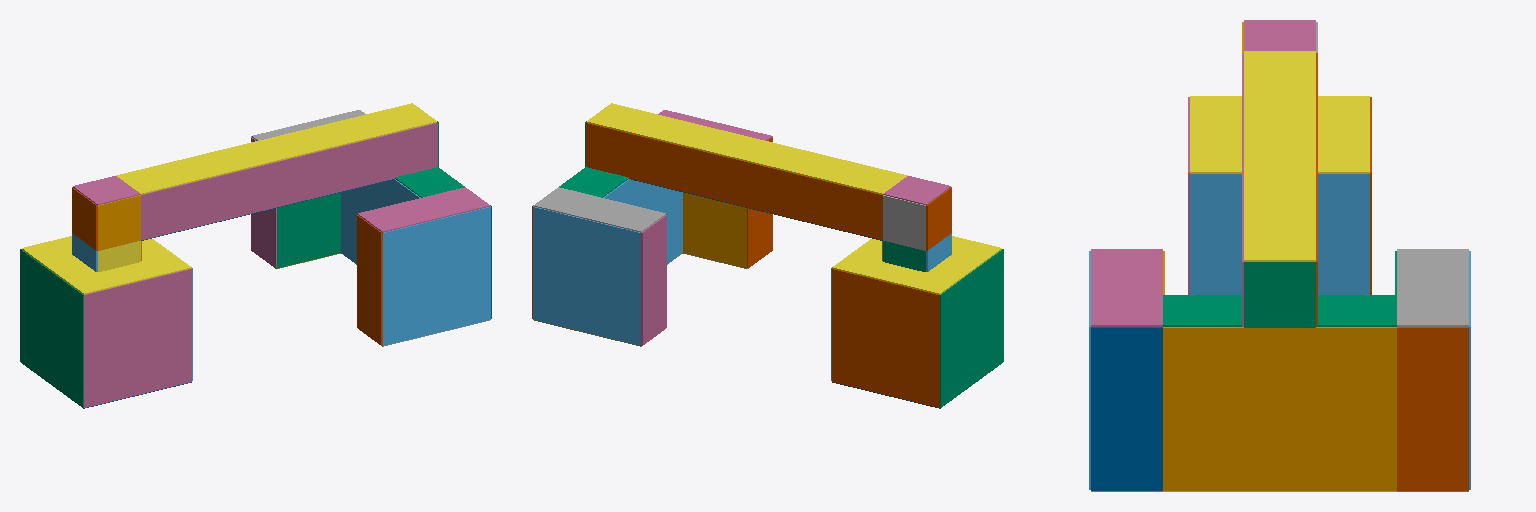
--- Facts derived from the render (not from the file) ---
The picture shows the robot from 3 angles, left to right: view 1: azimuth 30°, elevation 25°; view 2: azimuth 150°, elevation 25°; view 3: azimuth 270°, elevation 25°; orthographic projection.
Model robot with 64 links and 63 joints (2 continuous, 61 fixed), rooted at body, posed all joints at 0.
Links seen in each view (by area): view 1: arm_sensor_0_right, body_sensor_0_right, hand_3_sensor_0_right, arm_sensor_0_top, body_sensor_0_stop, body_sensor_0_top, hand_2_sensor_0_right, hand_3_sensor_0_stop, hand_3_sensor_0_top, hand_1_sensor_0_stop, joint_2_sensor_0_right, hand_2_sensor_0_stop (+6 smaller); view 2: arm_sensor_0_left, body_sensor_0_left, hand_2_sensor_0_left, arm_sensor_0_top, body_sensor_0_stop, body_sensor_0_top, hand_3_sensor_0_left, hand_2_sensor_0_stop, hand_2_sensor_0_top, hand_1_sensor_0_stop, joint_2_sensor_0_left, hand_3_sensor_0_stop (+6 smaller); view 3: hand_1_sensor_0_start, arm_sensor_0_top, body_sensor_0_start, hand_2_sensor_0_start, hand_3_sensor_0_start, body_sensor_0_top, hand_2_sensor_0_top, hand_3_sensor_0_top, hand_1_sensor_0_top, arm_sensor_0_start, joint_2_sensor_0_top, arm_sensor_0_right (+1 smaller).
Boxes of the visible links, x1=… form: arm_sensor_0_right: x1=141, y1=123, x2=437, y2=240; body_sensor_0_right: x1=84, y1=269, x2=191, y2=407; hand_3_sensor_0_right: x1=383, y1=206, x2=490, y2=345; arm_sensor_0_top: x1=116, y1=103, x2=436, y2=194; body_sensor_0_stop: x1=20, y1=249, x2=83, y2=407; body_sensor_0_top: x1=22, y1=236, x2=191, y2=294; hand_2_sensor_0_right: x1=277, y1=192, x2=340, y2=268; hand_3_sensor_0_stop: x1=357, y1=215, x2=382, y2=345; hand_3_sensor_0_top: x1=358, y1=187, x2=489, y2=232; hand_1_sensor_0_stop: x1=341, y1=179, x2=420, y2=264; joint_2_sensor_0_right: x1=98, y1=195, x2=140, y2=250; hand_2_sensor_0_stop: x1=251, y1=137, x2=276, y2=267; arm_sensor_0_left: x1=586, y1=123, x2=882, y2=240; body_sensor_0_left: x1=832, y1=269, x2=939, y2=407; hand_2_sensor_0_left: x1=533, y1=206, x2=640, y2=345; arm_sensor_0_top: x1=587, y1=103, x2=907, y2=194; body_sensor_0_stop: x1=940, y1=249, x2=1003, y2=407; body_sensor_0_top: x1=832, y1=236, x2=1001, y2=294; hand_3_sensor_0_left: x1=683, y1=192, x2=746, y2=268; hand_2_sensor_0_stop: x1=641, y1=215, x2=666, y2=345; hand_2_sensor_0_top: x1=534, y1=187, x2=665, y2=232; hand_1_sensor_0_stop: x1=603, y1=179, x2=682, y2=264; joint_2_sensor_0_left: x1=883, y1=195, x2=925, y2=250; hand_3_sensor_0_stop: x1=747, y1=137, x2=772, y2=267; hand_1_sensor_0_start: x1=1163, y1=327, x2=1396, y2=490; arm_sensor_0_top: x1=1244, y1=51, x2=1315, y2=261; body_sensor_0_start: x1=1190, y1=173, x2=1369, y2=294; hand_2_sensor_0_start: x1=1397, y1=327, x2=1468, y2=490; hand_3_sensor_0_start: x1=1091, y1=327, x2=1162, y2=490; body_sensor_0_top: x1=1190, y1=96, x2=1369, y2=172; hand_2_sensor_0_top: x1=1397, y1=249, x2=1468, y2=326; hand_3_sensor_0_top: x1=1091, y1=249, x2=1162, y2=326; hand_1_sensor_0_top: x1=1163, y1=295, x2=1396, y2=326; arm_sensor_0_start: x1=1244, y1=262, x2=1315, y2=327; joint_2_sensor_0_top: x1=1244, y1=20, x2=1315, y2=50; arm_sensor_0_right: x1=1242, y1=53, x2=1243, y2=326.
Bounding box of the posed robot: 3.47 × 2.12 × 1.62 m (x, y, z).
Geometry: primitives only (box / cylinder / sphere), no mesh files.

The robot description file, URDF, robot "robot":
<?xml version="1.0"?>
    <robot name="robot">


    <!-- body -->
    <link name="body">
        <inertial>
            <origin xyz="0 0 0" rpy="0 0 0"/>
            <mass value="100"/>
            <inertia ixx=".1" ixy=".1" ixz=".1" iyy=".1" iyz=".1" izz=".1"/>
        </inertial>
        <visual>
            <origin xyz="0 0 0" rpy="0 0 0"/>
            <geometry>
                <box size="1 1 1"/>
            </geometry>
        </visual>
        <collision>
            <origin xyz="0 0 0" rpy="0 0 0"/>
            <geometry>
                <box size="1 1 1"/>
            </geometry>
        </collision>
    </link>


    <!-- body_sensor_0_start -->
    <link name="body_sensor_0_start">
        <inertial>
            <origin xyz="0 0 0" rpy="0 0 0"/>
            <mass value="0"/>
            <inertia ixx=".1" ixy=".1" ixz=".1" iyy=".1" iyz=".1" izz=".1"/>
        </inertial>
        <visual>
            <origin xyz="0 0 0" rpy="0 0 0"/>
            <geometry>
                <box size="0.02 1 1"/>
            </geometry>
        </visual>
        <collision>
            <origin xyz="0 0 0" rpy="0 0 0"/>
            <geometry>
                <box size="0.02 1 1"/>
            </geometry>
        </collision>
    </link>
    <!-- Joint: body, body_sensor_0_start -->
    <joint name="body_body_sensor_0_start_joint" type="fixed">
        <parent link="body"/>
        <child link="body_sensor_0_start"/>
        <origin xyz="0.5 0 0"
                rpy="0 0 0"/>
        <axis xyz="0 0 1"/>
        
    </joint>


    <!-- body_sensor_0_stop -->
    <link name="body_sensor_0_stop">
        <inertial>
            <origin xyz="0 0 0" rpy="0 0 0"/>
            <mass value="0"/>
            <inertia ixx=".1" ixy=".1" ixz=".1" iyy=".1" iyz=".1" izz=".1"/>
        </inertial>
        <visual>
            <origin xyz="0 0 0" rpy="0 0 0"/>
            <geometry>
                <box size="0.02 1 1"/>
            </geometry>
        </visual>
        <collision>
            <origin xyz="0 0 0" rpy="0 0 0"/>
            <geometry>
                <box size="0.02 1 1"/>
            </geometry>
        </collision>
    </link>
    <!-- Joint: body, body_sensor_0_stop -->
    <joint name="body_body_sensor_0_stop_joint" type="fixed">
        <parent link="body"/>
        <child link="body_sensor_0_stop"/>
        <origin xyz="-0.5 0 0"
                rpy="0 0 0"/>
        <axis xyz="0 0 1"/>
        
    </joint>


    <!-- body_sensor_0_top -->
    <link name="body_sensor_0_top">
        <inertial>
            <origin xyz="0 0 0" rpy="0 0 0"/>
            <mass value="0"/>
            <inertia ixx=".1" ixy=".1" ixz=".1" iyy=".1" iyz=".1" izz=".1"/>
        </inertial>
        <visual>
            <origin xyz="0 0 0" rpy="0 0 0"/>
            <geometry>
                <box size="1.0 1 0.02"/>
            </geometry>
        </visual>
        <collision>
            <origin xyz="0 0 0" rpy="0 0 0"/>
            <geometry>
                <box size="1.0 1 0.02"/>
            </geometry>
        </collision>
    </link>
    <!-- Joint: body, body_sensor_0_top -->
    <joint name="body_body_sensor_0_top_joint" type="fixed">
        <parent link="body"/>
        <child link="body_sensor_0_top"/>
        <origin xyz="0 0 0.5"
                rpy="0 0 0"/>
        <axis xyz="0 0 1"/>
        
    </joint>


    <!-- body_sensor_0_bottom -->
    <link name="body_sensor_0_bottom">
        <inertial>
            <origin xyz="0 0 0" rpy="0 0 0"/>
            <mass value="0"/>
            <inertia ixx=".1" ixy=".1" ixz=".1" iyy=".1" iyz=".1" izz=".1"/>
        </inertial>
        <visual>
            <origin xyz="0 0 0" rpy="0 0 0"/>
            <geometry>
                <box size="1.0 1 0.02"/>
            </geometry>
        </visual>
        <collision>
            <origin xyz="0 0 0" rpy="0 0 0"/>
            <geometry>
                <box size="1.0 1 0.02"/>
            </geometry>
        </collision>
    </link>
    <!-- Joint: body, body_sensor_0_bottom -->
    <joint name="body_body_sensor_0_bottom_joint" type="fixed">
        <parent link="body"/>
        <child link="body_sensor_0_bottom"/>
        <origin xyz="0 0 -0.5"
                rpy="0 0 0"/>
        <axis xyz="0 0 1"/>
        
    </joint>


    <!-- body_sensor_0_left -->
    <link name="body_sensor_0_left">
        <inertial>
            <origin xyz="0 0 0" rpy="0 0 0"/>
            <mass value="0"/>
            <inertia ixx=".1" ixy=".1" ixz=".1" iyy=".1" iyz=".1" izz=".1"/>
        </inertial>
        <visual>
            <origin xyz="0 0 0" rpy="0 0 0"/>
            <geometry>
                <box size="1.0 0.02 1"/>
            </geometry>
        </visual>
        <collision>
            <origin xyz="0 0 0" rpy="0 0 0"/>
            <geometry>
                <box size="1.0 0.02 1"/>
            </geometry>
        </collision>
    </link>
    <!-- Joint: body, body_sensor_0_left -->
    <joint name="body_body_sensor_0_left_joint" type="fixed">
        <parent link="body"/>
        <child link="body_sensor_0_left"/>
        <origin xyz="0 0.5 0"
                rpy="0 0 0"/>
        <axis xyz="0 0 1"/>
        
    </joint>


    <!-- body_sensor_0_right -->
    <link name="body_sensor_0_right">
        <inertial>
            <origin xyz="0 0 0" rpy="0 0 0"/>
            <mass value="0"/>
            <inertia ixx=".1" ixy=".1" ixz=".1" iyy=".1" iyz=".1" izz=".1"/>
        </inertial>
        <visual>
            <origin xyz="0 0 0" rpy="0 0 0"/>
            <geometry>
                <box size="1.0 0.02 1"/>
            </geometry>
        </visual>
        <collision>
            <origin xyz="0 0 0" rpy="0 0 0"/>
            <geometry>
                <box size="1.0 0.02 1"/>
            </geometry>
        </collision>
    </link>
    <!-- Joint: body, body_sensor_0_right -->
    <joint name="body_body_sensor_0_right_joint" type="fixed">
        <parent link="body"/>
        <child link="body_sensor_0_right"/>
        <origin xyz="0 -0.5 0"
                rpy="0 0 0"/>
        <axis xyz="0 0 1"/>
        
    </joint>


    <!-- joint_1 -->
    <link name="joint_1">
        <inertial>
            <origin xyz="0 0 0" rpy="0 0 0"/>
            <mass value="2"/>
            <inertia ixx=".1" ixy=".1" ixz=".1" iyy=".1" iyz=".1" izz=".1"/>
        </inertial>
        <visual>
            <origin xyz="0 0 0" rpy="0 0 0"/>
            <geometry>
                <box size="0.4 0.4 0.2"/>
            </geometry>
        </visual>
        <collision>
            <origin xyz="0 0 0" rpy="0 0 0"/>
            <geometry>
                <box size="0.4 0.4 0.2"/>
            </geometry>
        </collision>
    </link>


    <!-- joint_1_sensor_0_start -->
    <link name="joint_1_sensor_0_start">
        <inertial>
            <origin xyz="0 0 0" rpy="0 0 0"/>
            <mass value="0"/>
            <inertia ixx=".1" ixy=".1" ixz=".1" iyy=".1" iyz=".1" izz=".1"/>
        </inertial>
        <visual>
            <origin xyz="0 0 0" rpy="0 0 0"/>
            <geometry>
                <box size="0.02 0.4 0.2"/>
            </geometry>
        </visual>
        <collision>
            <origin xyz="0 0 0" rpy="0 0 0"/>
            <geometry>
                <box size="0.02 0.4 0.2"/>
            </geometry>
        </collision>
    </link>
    <!-- Joint: joint_1, joint_1_sensor_0_start -->
    <joint name="joint_1_joint_1_sensor_0_start_joint" type="fixed">
        <parent link="joint_1"/>
        <child link="joint_1_sensor_0_start"/>
        <origin xyz="0.2 0 0"
                rpy="0 0 0"/>
        <axis xyz="0 0 1"/>
        
    </joint>


    <!-- joint_1_sensor_0_stop -->
    <link name="joint_1_sensor_0_stop">
        <inertial>
            <origin xyz="0 0 0" rpy="0 0 0"/>
            <mass value="0"/>
            <inertia ixx=".1" ixy=".1" ixz=".1" iyy=".1" iyz=".1" izz=".1"/>
        </inertial>
        <visual>
            <origin xyz="0 0 0" rpy="0 0 0"/>
            <geometry>
                <box size="0.02 0.4 0.2"/>
            </geometry>
        </visual>
        <collision>
            <origin xyz="0 0 0" rpy="0 0 0"/>
            <geometry>
                <box size="0.02 0.4 0.2"/>
            </geometry>
        </collision>
    </link>
    <!-- Joint: joint_1, joint_1_sensor_0_stop -->
    <joint name="joint_1_joint_1_sensor_0_stop_joint" type="fixed">
        <parent link="joint_1"/>
        <child link="joint_1_sensor_0_stop"/>
        <origin xyz="-0.2 0 0"
                rpy="0 0 0"/>
        <axis xyz="0 0 1"/>
        
    </joint>


    <!-- joint_1_sensor_0_left -->
    <link name="joint_1_sensor_0_left">
        <inertial>
            <origin xyz="0 0 0" rpy="0 0 0"/>
            <mass value="0"/>
            <inertia ixx=".1" ixy=".1" ixz=".1" iyy=".1" iyz=".1" izz=".1"/>
        </inertial>
        <visual>
            <origin xyz="0 0 0" rpy="0 0 0"/>
            <geometry>
                <box size="0.4 0.02 0.2"/>
            </geometry>
        </visual>
        <collision>
            <origin xyz="0 0 0" rpy="0 0 0"/>
            <geometry>
                <box size="0.4 0.02 0.2"/>
            </geometry>
        </collision>
    </link>
    <!-- Joint: joint_1, joint_1_sensor_0_left -->
    <joint name="joint_1_joint_1_sensor_0_left_joint" type="fixed">
        <parent link="joint_1"/>
        <child link="joint_1_sensor_0_left"/>
        <origin xyz="0 0.2 0"
                rpy="0 0 0"/>
        <axis xyz="0 0 1"/>
        
    </joint>


    <!-- joint_1_sensor_0_right -->
    <link name="joint_1_sensor_0_right">
        <inertial>
            <origin xyz="0 0 0" rpy="0 0 0"/>
            <mass value="0"/>
            <inertia ixx=".1" ixy=".1" ixz=".1" iyy=".1" iyz=".1" izz=".1"/>
        </inertial>
        <visual>
            <origin xyz="0 0 0" rpy="0 0 0"/>
            <geometry>
                <box size="0.4 0.02 0.2"/>
            </geometry>
        </visual>
        <collision>
            <origin xyz="0 0 0" rpy="0 0 0"/>
            <geometry>
                <box size="0.4 0.02 0.2"/>
            </geometry>
        </collision>
    </link>
    <!-- Joint: joint_1, joint_1_sensor_0_right -->
    <joint name="joint_1_joint_1_sensor_0_right_joint" type="fixed">
        <parent link="joint_1"/>
        <child link="joint_1_sensor_0_right"/>
        <origin xyz="0 -0.2 0"
                rpy="0 0 0"/>
        <axis xyz="0 0 1"/>
        
    </joint>
    <!-- Joint: body, joint_1 -->
    <joint name="body_joint_1_joint" type="continuous">
        <parent link="body"/>
        <child link="joint_1"/>
        <origin xyz="0 0 0.6"
                rpy="0 0 0"/>
        <axis xyz="0 0 1"/>
        <limit lower="0" upper="0" effort="0" velocity="0"/>
    </joint>


    <!-- joint_2 -->
    <link name="joint_2">
        <inertial>
            <origin xyz="0 0 0" rpy="0 0 0"/>
            <mass value="2"/>
            <inertia ixx=".1" ixy=".1" ixz=".1" iyy=".1" iyz=".1" izz=".1"/>
        </inertial>
        <visual>
            <origin xyz="0 0 0" rpy="0 0 0"/>
            <geometry>
                <box size="0.4 0.4 0.4"/>
            </geometry>
        </visual>
        <collision>
            <origin xyz="0 0 0" rpy="0 0 0"/>
            <geometry>
                <box size="0.4 0.4 0.4"/>
            </geometry>
        </collision>
    </link>


    <!-- joint_2_sensor_0_stop -->
    <link name="joint_2_sensor_0_stop">
        <inertial>
            <origin xyz="0 0 0" rpy="0 0 0"/>
            <mass value="0"/>
            <inertia ixx=".1" ixy=".1" ixz=".1" iyy=".1" iyz=".1" izz=".1"/>
        </inertial>
        <visual>
            <origin xyz="0 0 0" rpy="0 0 0"/>
            <geometry>
                <box size="0.02 0.4 0.4"/>
            </geometry>
        </visual>
        <collision>
            <origin xyz="0 0 0" rpy="0 0 0"/>
            <geometry>
                <box size="0.02 0.4 0.4"/>
            </geometry>
        </collision>
    </link>
    <!-- Joint: joint_2, joint_2_sensor_0_stop -->
    <joint name="joint_2_joint_2_sensor_0_stop_joint" type="fixed">
        <parent link="joint_2"/>
        <child link="joint_2_sensor_0_stop"/>
        <origin xyz="-0.2 0 0"
                rpy="0 0 0"/>
        <axis xyz="0 1 0"/>
        
    </joint>


    <!-- joint_2_sensor_0_top -->
    <link name="joint_2_sensor_0_top">
        <inertial>
            <origin xyz="0 0 0" rpy="0 0 0"/>
            <mass value="0"/>
            <inertia ixx=".1" ixy=".1" ixz=".1" iyy=".1" iyz=".1" izz=".1"/>
        </inertial>
        <visual>
            <origin xyz="0 0 0" rpy="0 0 0"/>
            <geometry>
                <box size="0.4 0.4 0.02"/>
            </geometry>
        </visual>
        <collision>
            <origin xyz="0 0 0" rpy="0 0 0"/>
            <geometry>
                <box size="0.4 0.4 0.02"/>
            </geometry>
        </collision>
    </link>
    <!-- Joint: joint_2, joint_2_sensor_0_top -->
    <joint name="joint_2_joint_2_sensor_0_top_joint" type="fixed">
        <parent link="joint_2"/>
        <child link="joint_2_sensor_0_top"/>
        <origin xyz="0 0 0.2"
                rpy="0 0 0"/>
        <axis xyz="0 1 0"/>
        
    </joint>


    <!-- joint_2_sensor_0_left -->
    <link name="joint_2_sensor_0_left">
        <inertial>
            <origin xyz="0 0 0" rpy="0 0 0"/>
            <mass value="0"/>
            <inertia ixx=".1" ixy=".1" ixz=".1" iyy=".1" iyz=".1" izz=".1"/>
        </inertial>
        <visual>
            <origin xyz="0 0 0" rpy="0 0 0"/>
            <geometry>
                <box size="0.4 0.02 0.4"/>
            </geometry>
        </visual>
        <collision>
            <origin xyz="0 0 0" rpy="0 0 0"/>
            <geometry>
                <box size="0.4 0.02 0.4"/>
            </geometry>
        </collision>
    </link>
    <!-- Joint: joint_2, joint_2_sensor_0_left -->
    <joint name="joint_2_joint_2_sensor_0_left_joint" type="fixed">
        <parent link="joint_2"/>
        <child link="joint_2_sensor_0_left"/>
        <origin xyz="0 0.2 0"
                rpy="0 0 0"/>
        <axis xyz="0 1 0"/>
        
    </joint>


    <!-- joint_2_sensor_0_right -->
    <link name="joint_2_sensor_0_right">
        <inertial>
            <origin xyz="0 0 0" rpy="0 0 0"/>
            <mass value="0"/>
            <inertia ixx=".1" ixy=".1" ixz=".1" iyy=".1" iyz=".1" izz=".1"/>
        </inertial>
        <visual>
            <origin xyz="0 0 0" rpy="0 0 0"/>
            <geometry>
                <box size="0.4 0.02 0.4"/>
            </geometry>
        </visual>
        <collision>
            <origin xyz="0 0 0" rpy="0 0 0"/>
            <geometry>
                <box size="0.4 0.02 0.4"/>
            </geometry>
        </collision>
    </link>
    <!-- Joint: joint_2, joint_2_sensor_0_right -->
    <joint name="joint_2_joint_2_sensor_0_right_joint" type="fixed">
        <parent link="joint_2"/>
        <child link="joint_2_sensor_0_right"/>
        <origin xyz="0 -0.2 0"
                rpy="0 0 0"/>
        <axis xyz="0 1 0"/>
        
    </joint>
    <!-- Joint: joint_1, joint_2 -->
    <joint name="joint_1_joint_2_joint" type="continuous">
        <parent link="joint_1"/>
        <child link="joint_2"/>
        <origin xyz="0 0 0.30000000000000004"
                rpy="0 0 0"/>
        <axis xyz="0 1 0"/>
        <limit lower="0" upper="0" effort="0" velocity="0"/>
    </joint>


    <!-- arm -->
    <link name="arm">
        <inertial>
            <origin xyz="0 0 0" rpy="0 0 0"/>
            <mass value="2"/>
            <inertia ixx=".1" ixy=".1" ixz=".1" iyy=".1" iyz=".1" izz=".1"/>
        </inertial>
        <visual>
            <origin xyz="0 0 0" rpy="0 0 0"/>
            <geometry>
                <box size="2.75 0.4 0.4"/>
            </geometry>
        </visual>
        <collision>
            <origin xyz="0 0 0" rpy="0 0 0"/>
            <geometry>
                <box size="2.75 0.4 0.4"/>
            </geometry>
        </collision>
    </link>


    <!-- arm_sensor_0_start -->
    <link name="arm_sensor_0_start">
        <inertial>
            <origin xyz="0 0 0" rpy="0 0 0"/>
            <mass value="0"/>
            <inertia ixx=".1" ixy=".1" ixz=".1" iyy=".1" iyz=".1" izz=".1"/>
        </inertial>
        <visual>
            <origin xyz="0 0 0" rpy="0 0 0"/>
            <geometry>
                <box size="0.02 0.4 0.4"/>
            </geometry>
        </visual>
        <collision>
            <origin xyz="0 0 0" rpy="0 0 0"/>
            <geometry>
                <box size="0.02 0.4 0.4"/>
            </geometry>
        </collision>
    </link>
    <!-- Joint: arm, arm_sensor_0_start -->
    <joint name="arm_arm_sensor_0_start_joint" type="fixed">
        <parent link="arm"/>
        <child link="arm_sensor_0_start"/>
        <origin xyz="1.375 0 0"
                rpy="0 0 0"/>
        <axis xyz="0 1 0"/>
        
    </joint>


    <!-- arm_sensor_0_top -->
    <link name="arm_sensor_0_top">
        <inertial>
            <origin xyz="0 0 0" rpy="0 0 0"/>
            <mass value="0"/>
            <inertia ixx=".1" ixy=".1" ixz=".1" iyy=".1" iyz=".1" izz=".1"/>
        </inertial>
        <visual>
            <origin xyz="0 0 0" rpy="0 0 0"/>
            <geometry>
                <box size="2.75 0.4 0.02"/>
            </geometry>
        </visual>
        <collision>
            <origin xyz="0 0 0" rpy="0 0 0"/>
            <geometry>
                <box size="2.75 0.4 0.02"/>
            </geometry>
        </collision>
    </link>
    <!-- Joint: arm, arm_sensor_0_top -->
    <joint name="arm_arm_sensor_0_top_joint" type="fixed">
        <parent link="arm"/>
        <child link="arm_sensor_0_top"/>
        <origin xyz="0 0 0.2"
                rpy="0 0 0"/>
        <axis xyz="0 1 0"/>
        
    </joint>


    <!-- arm_sensor_0_bottom -->
    <link name="arm_sensor_0_bottom">
        <inertial>
            <origin xyz="0 0 0" rpy="0 0 0"/>
            <mass value="0"/>
            <inertia ixx=".1" ixy=".1" ixz=".1" iyy=".1" iyz=".1" izz=".1"/>
        </inertial>
        <visual>
            <origin xyz="0 0 0" rpy="0 0 0"/>
            <geometry>
                <box size="2.75 0.4 0.02"/>
            </geometry>
        </visual>
        <collision>
            <origin xyz="0 0 0" rpy="0 0 0"/>
            <geometry>
                <box size="2.75 0.4 0.02"/>
            </geometry>
        </collision>
    </link>
    <!-- Joint: arm, arm_sensor_0_bottom -->
    <joint name="arm_arm_sensor_0_bottom_joint" type="fixed">
        <parent link="arm"/>
        <child link="arm_sensor_0_bottom"/>
        <origin xyz="0 0 -0.2"
                rpy="0 0 0"/>
        <axis xyz="0 1 0"/>
        
    </joint>


    <!-- arm_sensor_0_left -->
    <link name="arm_sensor_0_left">
        <inertial>
            <origin xyz="0 0 0" rpy="0 0 0"/>
            <mass value="0"/>
            <inertia ixx=".1" ixy=".1" ixz=".1" iyy=".1" iyz=".1" izz=".1"/>
        </inertial>
        <visual>
            <origin xyz="0 0 0" rpy="0 0 0"/>
            <geometry>
                <box size="2.75 0.02 0.4"/>
            </geometry>
        </visual>
        <collision>
            <origin xyz="0 0 0" rpy="0 0 0"/>
            <geometry>
                <box size="2.75 0.02 0.4"/>
            </geometry>
        </collision>
    </link>
    <!-- Joint: arm, arm_sensor_0_left -->
    <joint name="arm_arm_sensor_0_left_joint" type="fixed">
        <parent link="arm"/>
        <child link="arm_sensor_0_left"/>
        <origin xyz="0 0.2 0"
                rpy="0 0 0"/>
        <axis xyz="0 1 0"/>
        
    </joint>


    <!-- arm_sensor_0_right -->
    <link name="arm_sensor_0_right">
        <inertial>
            <origin xyz="0 0 0" rpy="0 0 0"/>
            <mass value="0"/>
            <inertia ixx=".1" ixy=".1" ixz=".1" iyy=".1" iyz=".1" izz=".1"/>
        </inertial>
        <visual>
            <origin xyz="0 0 0" rpy="0 0 0"/>
            <geometry>
                <box size="2.75 0.02 0.4"/>
            </geometry>
        </visual>
        <collision>
            <origin xyz="0 0 0" rpy="0 0 0"/>
            <geometry>
                <box size="2.75 0.02 0.4"/>
            </geometry>
        </collision>
    </link>
    <!-- Joint: arm, arm_sensor_0_right -->
    <joint name="arm_arm_sensor_0_right_joint" type="fixed">
        <parent link="arm"/>
        <child link="arm_sensor_0_right"/>
        <origin xyz="0 -0.2 0"
                rpy="0 0 0"/>
        <axis xyz="0 1 0"/>
        
    </joint>
    <!-- Joint: joint_2, arm -->
    <joint name="joint_2_arm_joint" type="fixed">
        <parent link="joint_2"/>
        <child link="arm"/>
        <origin xyz="1.575 0 0"
                rpy="0 0 0"/>
        <axis xyz="0 1 0"/>
        
    </joint>


    <!-- hand_1 -->
    <link name="hand_1">
        <inertial>
            <origin xyz="0 0 0" rpy="0 0 0"/>
            <mass value="2"/>
            <inertia ixx=".1" ixy=".1" ixz=".1" iyy=".1" iyz=".1" izz=".1"/>
        </inertial>
        <visual>
            <origin xyz="0 0 0" rpy="0 0 0"/>
            <geometry>
                <box size="0.4 1.3 1"/>
            </geometry>
        </visual>
        <collision>
            <origin xyz="0 0 0" rpy="0 0 0"/>
            <geometry>
                <box size="0.4 1.3 1"/>
            </geometry>
        </collision>
    </link>


    <!-- hand_1_sensor_0_start -->
    <link name="hand_1_sensor_0_start">
        <inertial>
            <origin xyz="0 0 0" rpy="0 0 0"/>
            <mass value="0"/>
            <inertia ixx=".1" ixy=".1" ixz=".1" iyy=".1" iyz=".1" izz=".1"/>
        </inertial>
        <visual>
            <origin xyz="0 0 0" rpy="0 0 0"/>
            <geometry>
                <box size="0.02 1.3 1"/>
            </geometry>
        </visual>
        <collision>
            <origin xyz="0 0 0" rpy="0 0 0"/>
            <geometry>
                <box size="0.02 1.3 1"/>
            </geometry>
        </collision>
    </link>
    <!-- Joint: hand_1, hand_1_sensor_0_start -->
    <joint name="hand_1_hand_1_sensor_0_start_joint" type="fixed">
        <parent link="hand_1"/>
        <child link="hand_1_sensor_0_start"/>
        <origin xyz="0.2 0 0"
                rpy="0 0 0"/>
        <axis xyz="0 1 0"/>
        
    </joint>


    <!-- hand_1_sensor_0_stop -->
    <link name="hand_1_sensor_0_stop">
        <inertial>
            <origin xyz="0 0 0" rpy="0 0 0"/>
            <mass value="0"/>
            <inertia ixx=".1" ixy=".1" ixz=".1" iyy=".1" iyz=".1" izz=".1"/>
        </inertial>
        <visual>
            <origin xyz="0 0 0" rpy="0 0 0"/>
            <geometry>
                <box size="0.02 1.3 1"/>
            </geometry>
        </visual>
        <collision>
            <origin xyz="0 0 0" rpy="0 0 0"/>
            <geometry>
                <box size="0.02 1.3 1"/>
            </geometry>
        </collision>
    </link>
    <!-- Joint: hand_1, hand_1_sensor_0_stop -->
    <joint name="hand_1_hand_1_sensor_0_stop_joint" type="fixed">
        <parent link="hand_1"/>
        <child link="hand_1_sensor_0_stop"/>
        <origin xyz="-0.2 0 0"
                rpy="0 0 0"/>
        <axis xyz="0 1 0"/>
        
    </joint>


    <!-- hand_1_sensor_0_top -->
    <link name="hand_1_sensor_0_top">
        <inertial>
            <origin xyz="0 0 0" rpy="0 0 0"/>
            <mass value="0"/>
            <inertia ixx=".1" ixy=".1" ixz=".1" iyy=".1" iyz=".1" izz=".1"/>
        </inertial>
        <visual>
            <origin xyz="0 0 0" rpy="0 0 0"/>
            <geometry>
                <box size="0.4 1.3 0.02"/>
            </geometry>
        </visual>
        <collision>
            <origin xyz="0 0 0" rpy="0 0 0"/>
            <geometry>
                <box size="0.4 1.3 0.02"/>
            </geometry>
        </collision>
    </link>
    <!-- Joint: hand_1, hand_1_sensor_0_top -->
    <joint name="hand_1_hand_1_sensor_0_top_joint" type="fixed">
        <parent link="hand_1"/>
        <child link="hand_1_sensor_0_top"/>
        <origin xyz="0 0 0.5"
                rpy="0 0 0"/>
        <axis xyz="0 1 0"/>
        
    </joint>


    <!-- hand_1_sensor_0_bottom -->
    <link name="hand_1_sensor_0_bottom">
        <inertial>
            <origin xyz="0 0 0" rpy="0 0 0"/>
            <mass value="0"/>
            <inertia ixx=".1" ixy=".1" ixz=".1" iyy=".1" iyz=".1" izz=".1"/>
        </inertial>
        <visual>
            <origin xyz="0 0 0" rpy="0 0 0"/>
            <geometry>
                <box size="0.4 1.3 0.02"/>
            </geometry>
        </visual>
        <collision>
            <origin xyz="0 0 0" rpy="0 0 0"/>
            <geometry>
                <box size="0.4 1.3 0.02"/>
            </geometry>
        </collision>
    </link>
    <!-- Joint: hand_1, hand_1_sensor_0_bottom -->
    <joint name="hand_1_hand_1_sensor_0_bottom_joint" type="fixed">
        <parent link="hand_1"/>
        <child link="hand_1_sensor_0_bottom"/>
        <origin xyz="0 0 -0.5"
                rpy="0 0 0"/>
        <axis xyz="0 1 0"/>
        
    </joint>
    <!-- Joint: arm, hand_1 -->
    <joint name="arm_hand_1_joint" type="fixed">
        <parent link="arm"/>
        <child link="hand_1"/>
        <origin xyz="1.175 0 -0.7"
                rpy="0 0 0"/>
        <axis xyz="0 1 0"/>
        
    </joint>


    <!-- hand_2 -->
    <link name="hand_2">
        <inertial>
            <origin xyz="0 0 0" rpy="0 0 0"/>
            <mass value="2"/>
            <inertia ixx=".1" ixy=".1" ixz=".1" iyy=".1" iyz=".1" izz=".1"/>
        </inertial>
        <visual>
            <origin xyz="0 0 0" rpy="0 0 0"/>
            <geometry>
                <box size="1 0.4 1"/>
            </geometry>
        </visual>
        <collision>
            <origin xyz="0 0 0" rpy="0 0 0"/>
            <geometry>
                <box size="1 0.4 1"/>
            </geometry>
        </collision>
    </link>


    <!-- hand_2_sensor_0_start -->
    <link name="hand_2_sensor_0_start">
        <inertial>
            <origin xyz="0 0 0" rpy="0 0 0"/>
            <mass value="0"/>
            <inertia ixx=".1" ixy=".1" ixz=".1" iyy=".1" iyz=".1" izz=".1"/>
        </inertial>
        <visual>
            <origin xyz="0 0 0" rpy="0 0 0"/>
            <geometry>
                <box size="0.02 0.4 1"/>
            </geometry>
        </visual>
        <collision>
            <origin xyz="0 0 0" rpy="0 0 0"/>
            <geometry>
                <box size="0.02 0.4 1"/>
            </geometry>
        </collision>
    </link>
    <!-- Joint: hand_2, hand_2_sensor_0_start -->
    <joint name="hand_2_hand_2_sensor_0_start_joint" type="fixed">
        <parent link="hand_2"/>
        <child link="hand_2_sensor_0_start"/>
        <origin xyz="0.5 0 0"
                rpy="0 0 0"/>
        <axis xyz="0 1 0"/>
        
    </joint>


    <!-- hand_2_sensor_0_stop -->
    <link name="hand_2_sensor_0_stop">
        <inertial>
            <origin xyz="0 0 0" rpy="0 0 0"/>
            <mass value="0"/>
            <inertia ixx=".1" ixy=".1" ixz=".1" iyy=".1" iyz=".1" izz=".1"/>
        </inertial>
        <visual>
            <origin xyz="0 0 0" rpy="0 0 0"/>
            <geometry>
                <box size="0.02 0.4 1"/>
            </geometry>
        </visual>
        <collision>
            <origin xyz="0 0 0" rpy="0 0 0"/>
            <geometry>
                <box size="0.02 0.4 1"/>
            </geometry>
        </collision>
    </link>
    <!-- Joint: hand_2, hand_2_sensor_0_stop -->
    <joint name="hand_2_hand_2_sensor_0_stop_joint" type="fixed">
        <parent link="hand_2"/>
        <child link="hand_2_sensor_0_stop"/>
        <origin xyz="-0.5 0 0"
                rpy="0 0 0"/>
        <axis xyz="0 1 0"/>
        
    </joint>


    <!-- hand_2_sensor_0_top -->
    <link name="hand_2_sensor_0_top">
        <inertial>
            <origin xyz="0 0 0" rpy="0 0 0"/>
            <mass value="0"/>
            <inertia ixx=".1" ixy=".1" ixz=".1" iyy=".1" iyz=".1" izz=".1"/>
        </inertial>
        <visual>
            <origin xyz="0 0 0" rpy="0 0 0"/>
            <geometry>
                <box size="1.0 0.4 0.02"/>
            </geometry>
        </visual>
        <collision>
            <origin xyz="0 0 0" rpy="0 0 0"/>
            <geometry>
                <box size="1.0 0.4 0.02"/>
            </geometry>
        </collision>
    </link>
    <!-- Joint: hand_2, hand_2_sensor_0_top -->
    <joint name="hand_2_hand_2_sensor_0_top_joint" type="fixed">
        <parent link="hand_2"/>
        <child link="hand_2_sensor_0_top"/>
        <origin xyz="0 0 0.5"
                rpy="0 0 0"/>
        <axis xyz="0 1 0"/>
        
    </joint>


    <!-- hand_2_sensor_0_bottom -->
    <link name="hand_2_sensor_0_bottom">
        <inertial>
            <origin xyz="0 0 0" rpy="0 0 0"/>
            <mass value="0"/>
            <inertia ixx=".1" ixy=".1" ixz=".1" iyy=".1" iyz=".1" izz=".1"/>
        </inertial>
        <visual>
            <origin xyz="0 0 0" rpy="0 0 0"/>
            <geometry>
                <box size="1.0 0.4 0.02"/>
            </geometry>
        </visual>
        <collision>
            <origin xyz="0 0 0" rpy="0 0 0"/>
            <geometry>
                <box size="1.0 0.4 0.02"/>
            </geometry>
        </collision>
    </link>
    <!-- Joint: hand_2, hand_2_sensor_0_bottom -->
    <joint name="hand_2_hand_2_sensor_0_bottom_joint" type="fixed">
        <parent link="hand_2"/>
        <child link="hand_2_sensor_0_bottom"/>
        <origin xyz="0 0 -0.5"
                rpy="0 0 0"/>
        <axis xyz="0 1 0"/>
        
    </joint>


    <!-- hand_2_sensor_0_left -->
    <link name="hand_2_sensor_0_left">
        <inertial>
            <origin xyz="0 0 0" rpy="0 0 0"/>
            <mass value="0"/>
            <inertia ixx=".1" ixy=".1" ixz=".1" iyy=".1" iyz=".1" izz=".1"/>
        </inertial>
        <visual>
            <origin xyz="0 0 0" rpy="0 0 0"/>
            <geometry>
                <box size="1.0 0.02 1"/>
            </geometry>
        </visual>
        <collision>
            <origin xyz="0 0 0" rpy="0 0 0"/>
            <geometry>
                <box size="1.0 0.02 1"/>
            </geometry>
        </collision>
    </link>
    <!-- Joint: hand_2, hand_2_sensor_0_left -->
    <joint name="hand_2_hand_2_sensor_0_left_joint" type="fixed">
        <parent link="hand_2"/>
        <child link="hand_2_sensor_0_left"/>
        <origin xyz="0 0.2 0"
                rpy="0 0 0"/>
        <axis xyz="0 1 0"/>
        
    </joint>


    <!-- hand_2_sensor_0_right -->
    <link name="hand_2_sensor_0_right">
        <inertial>
            <origin xyz="0 0 0" rpy="0 0 0"/>
            <mass value="0"/>
            <inertia ixx=".1" ixy=".1" ixz=".1" iyy=".1" iyz=".1" izz=".1"/>
        </inertial>
        <visual>
            <origin xyz="0 0 0" rpy="0 0 0"/>
            <geometry>
                <box size="1.0 0.02 1"/>
            </geometry>
        </visual>
        <collision>
            <origin xyz="0 0 0" rpy="0 0 0"/>
            <geometry>
                <box size="1.0 0.02 1"/>
            </geometry>
        </collision>
    </link>
    <!-- Joint: hand_2, hand_2_sensor_0_right -->
    <joint name="hand_2_hand_2_sensor_0_right_joint" type="fixed">
        <parent link="hand_2"/>
        <child link="hand_2_sensor_0_right"/>
        <origin xyz="0 -0.2 0"
                rpy="0 0 0"/>
        <axis xyz="0 1 0"/>
        
    </joint>
    <!-- Joint: hand_1, hand_2 -->
    <joint name="hand_1_hand_2_joint" type="fixed">
        <parent link="hand_1"/>
        <child link="hand_2"/>
        <origin xyz="-0.3 0.8500000000000001 0"
                rpy="0 0 0"/>
        <axis xyz="0 1 0"/>
        
    </joint>


    <!-- hand_3 -->
    <link name="hand_3">
        <inertial>
            <origin xyz="0 0 0" rpy="0 0 0"/>
            <mass value="2"/>
            <inertia ixx=".1" ixy=".1" ixz=".1" iyy=".1" iyz=".1" izz=".1"/>
        </inertial>
        <visual>
            <origin xyz="0 0 0" rpy="0 0 0"/>
            <geometry>
                <box size="1 0.4 1"/>
            </geometry>
        </visual>
        <collision>
            <origin xyz="0 0 0" rpy="0 0 0"/>
            <geometry>
                <box size="1 0.4 1"/>
            </geometry>
        </collision>
    </link>


    <!-- hand_3_sensor_0_start -->
    <link name="hand_3_sensor_0_start">
        <inertial>
            <origin xyz="0 0 0" rpy="0 0 0"/>
            <mass value="0"/>
            <inertia ixx=".1" ixy=".1" ixz=".1" iyy=".1" iyz=".1" izz=".1"/>
        </inertial>
        <visual>
            <origin xyz="0 0 0" rpy="0 0 0"/>
            <geometry>
                <box size="0.02 0.4 1"/>
            </geometry>
        </visual>
        <collision>
            <origin xyz="0 0 0" rpy="0 0 0"/>
            <geometry>
                <box size="0.02 0.4 1"/>
            </geometry>
        </collision>
    </link>
    <!-- Joint: hand_3, hand_3_sensor_0_start -->
    <joint name="hand_3_hand_3_sensor_0_start_joint" type="fixed">
        <parent link="hand_3"/>
        <child link="hand_3_sensor_0_start"/>
        <origin xyz="0.5 0 0"
                rpy="0 0 0"/>
        <axis xyz="0 1 0"/>
        
    </joint>


    <!-- hand_3_sensor_0_stop -->
    <link name="hand_3_sensor_0_stop">
        <inertial>
            <origin xyz="0 0 0" rpy="0 0 0"/>
            <mass value="0"/>
            <inertia ixx=".1" ixy=".1" ixz=".1" iyy=".1" iyz=".1" izz=".1"/>
        </inertial>
        <visual>
            <origin xyz="0 0 0" rpy="0 0 0"/>
            <geometry>
                <box size="0.02 0.4 1"/>
            </geometry>
        </visual>
        <collision>
            <origin xyz="0 0 0" rpy="0 0 0"/>
            <geometry>
                <box size="0.02 0.4 1"/>
            </geometry>
        </collision>
    </link>
    <!-- Joint: hand_3, hand_3_sensor_0_stop -->
    <joint name="hand_3_hand_3_sensor_0_stop_joint" type="fixed">
        <parent link="hand_3"/>
        <child link="hand_3_sensor_0_stop"/>
        <origin xyz="-0.5 0 0"
                rpy="0 0 0"/>
        <axis xyz="0 1 0"/>
        
    </joint>


    <!-- hand_3_sensor_0_top -->
    <link name="hand_3_sensor_0_top">
        <inertial>
            <origin xyz="0 0 0" rpy="0 0 0"/>
            <mass value="0"/>
            <inertia ixx=".1" ixy=".1" ixz=".1" iyy=".1" iyz=".1" izz=".1"/>
        </inertial>
        <visual>
            <origin xyz="0 0 0" rpy="0 0 0"/>
            <geometry>
                <box size="1.0 0.4 0.02"/>
            </geometry>
        </visual>
        <collision>
            <origin xyz="0 0 0" rpy="0 0 0"/>
            <geometry>
                <box size="1.0 0.4 0.02"/>
            </geometry>
        </collision>
    </link>
    <!-- Joint: hand_3, hand_3_sensor_0_top -->
    <joint name="hand_3_hand_3_sensor_0_top_joint" type="fixed">
        <parent link="hand_3"/>
        <child link="hand_3_sensor_0_top"/>
        <origin xyz="0 0 0.5"
                rpy="0 0 0"/>
        <axis xyz="0 1 0"/>
        
    </joint>


    <!-- hand_3_sensor_0_bottom -->
    <link name="hand_3_sensor_0_bottom">
        <inertial>
            <origin xyz="0 0 0" rpy="0 0 0"/>
            <mass value="0"/>
            <inertia ixx=".1" ixy=".1" ixz=".1" iyy=".1" iyz=".1" izz=".1"/>
        </inertial>
        <visual>
            <origin xyz="0 0 0" rpy="0 0 0"/>
            <geometry>
                <box size="1.0 0.4 0.02"/>
            </geometry>
        </visual>
        <collision>
            <origin xyz="0 0 0" rpy="0 0 0"/>
            <geometry>
                <box size="1.0 0.4 0.02"/>
            </geometry>
        </collision>
    </link>
    <!-- Joint: hand_3, hand_3_sensor_0_bottom -->
    <joint name="hand_3_hand_3_sensor_0_bottom_joint" type="fixed">
        <parent link="hand_3"/>
        <child link="hand_3_sensor_0_bottom"/>
        <origin xyz="0 0 -0.5"
                rpy="0 0 0"/>
        <axis xyz="0 1 0"/>
        
    </joint>


    <!-- hand_3_sensor_0_left -->
    <link name="hand_3_sensor_0_left">
        <inertial>
            <origin xyz="0 0 0" rpy="0 0 0"/>
            <mass value="0"/>
            <inertia ixx=".1" ixy=".1" ixz=".1" iyy=".1" iyz=".1" izz=".1"/>
        </inertial>
        <visual>
            <origin xyz="0 0 0" rpy="0 0 0"/>
            <geometry>
                <box size="1.0 0.02 1"/>
            </geometry>
        </visual>
        <collision>
            <origin xyz="0 0 0" rpy="0 0 0"/>
            <geometry>
                <box size="1.0 0.02 1"/>
            </geometry>
        </collision>
    </link>
    <!-- Joint: hand_3, hand_3_sensor_0_left -->
    <joint name="hand_3_hand_3_sensor_0_left_joint" type="fixed">
        <parent link="hand_3"/>
        <child link="hand_3_sensor_0_left"/>
        <origin xyz="0 0.2 0"
                rpy="0 0 0"/>
        <axis xyz="0 1 0"/>
        
    </joint>


    <!-- hand_3_sensor_0_right -->
    <link name="hand_3_sensor_0_right">
        <inertial>
            <origin xyz="0 0 0" rpy="0 0 0"/>
            <mass value="0"/>
            <inertia ixx=".1" ixy=".1" ixz=".1" iyy=".1" iyz=".1" izz=".1"/>
        </inertial>
        <visual>
            <origin xyz="0 0 0" rpy="0 0 0"/>
            <geometry>
                <box size="1.0 0.02 1"/>
            </geometry>
        </visual>
        <collision>
            <origin xyz="0 0 0" rpy="0 0 0"/>
            <geometry>
                <box size="1.0 0.02 1"/>
            </geometry>
        </collision>
    </link>
    <!-- Joint: hand_3, hand_3_sensor_0_right -->
    <joint name="hand_3_hand_3_sensor_0_right_joint" type="fixed">
        <parent link="hand_3"/>
        <child link="hand_3_sensor_0_right"/>
        <origin xyz="0 -0.2 0"
                rpy="0 0 0"/>
        <axis xyz="0 1 0"/>
        
    </joint>
    <!-- Joint: hand_1, hand_3 -->
    <joint name="hand_1_hand_3_joint" type="fixed">
        <parent link="hand_1"/>
        <child link="hand_3"/>
        <origin xyz="-0.3 -0.8500000000000001 0"
                rpy="0 0 0"/>
        <axis xyz="0 1 0"/>
        
    </joint>


    <!-- body_face_front_0 -->
    <link name="body_face_front_0">
        <inertial>
            <origin xyz="0 0 0" rpy="0 0 0"/>
            <mass value="0"/>
            <inertia ixx=".1" ixy=".1" ixz=".1" iyy=".1" iyz=".1" izz=".1"/>
        </inertial>
        <visual>
            <origin xyz="0 0 0" rpy="0 0 0"/>
            <geometry>
                <box size="0.002 0.1111111111111111 0.1111111111111111"/>
            </geometry>
        </visual>
        <collision>
            <origin xyz="0 0 0" rpy="0 0 0"/>
            <geometry>
                <box size="0.002 0.1111111111111111 0.1111111111111111"/>
            </geometry>
        </collision>
    </link>
    <!-- Joint: body, body_face_front_0 -->
    <joint name="body_body_face_front_0_joint" type="fixed">
        <parent link="body"/>
        <child link="body_face_front_0"/>
        <origin xyz="0.501 -0.33333333333333337 0.11111111111111116"
                rpy="0 0 0"/>
        <axis xyz="0 0 1"/>
        
    </joint>


    <!-- body_face_front_1 -->
    <link name="body_face_front_1">
        <inertial>
            <origin xyz="0 0 0" rpy="0 0 0"/>
            <mass value="0"/>
            <inertia ixx=".1" ixy=".1" ixz=".1" iyy=".1" iyz=".1" izz=".1"/>
        </inertial>
        <visual>
            <origin xyz="0 0 0" rpy="0 0 0"/>
            <geometry>
                <box size="0.002 0.1111111111111111 0.1111111111111111"/>
            </geometry>
        </visual>
        <collision>
            <origin xyz="0 0 0" rpy="0 0 0"/>
            <geometry>
                <box size="0.002 0.1111111111111111 0.1111111111111111"/>
            </geometry>
        </collision>
    </link>
    <!-- Joint: body, body_face_front_1 -->
    <joint name="body_body_face_front_1_joint" type="fixed">
        <parent link="body"/>
        <child link="body_face_front_1"/>
        <origin xyz="0.501 -0.2222222222222222 0.2222222222222222"
                rpy="0 0 0"/>
        <axis xyz="0 0 1"/>
        
    </joint>


    <!-- body_face_front_2 -->
    <link name="body_face_front_2">
        <inertial>
            <origin xyz="0 0 0" rpy="0 0 0"/>
            <mass value="0"/>
            <inertia ixx=".1" ixy=".1" ixz=".1" iyy=".1" iyz=".1" izz=".1"/>
        </inertial>
        <visual>
            <origin xyz="0 0 0" rpy="0 0 0"/>
            <geometry>
                <box size="0.002 0.1111111111111111 0.1111111111111111"/>
            </geometry>
        </visual>
        <collision>
            <origin xyz="0 0 0" rpy="0 0 0"/>
            <geometry>
                <box size="0.002 0.1111111111111111 0.1111111111111111"/>
            </geometry>
        </collision>
    </link>
    <!-- Joint: body, body_face_front_2 -->
    <joint name="body_body_face_front_2_joint" type="fixed">
        <parent link="body"/>
        <child link="body_face_front_2"/>
        <origin xyz="0.501 -0.1111111111111111 0.11111111111111116"
                rpy="0 0 0"/>
        <axis xyz="0 0 1"/>
        
    </joint>


    <!-- body_face_front_3 -->
    <link name="body_face_front_3">
        <inertial>
            <origin xyz="0 0 0" rpy="0 0 0"/>
            <mass value="0"/>
            <inertia ixx=".1" ixy=".1" ixz=".1" iyy=".1" iyz=".1" izz=".1"/>
        </inertial>
        <visual>
            <origin xyz="0 0 0" rpy="0 0 0"/>
            <geometry>
                <box size="0.002 0.1111111111111111 0.1111111111111111"/>
            </geometry>
        </visual>
        <collision>
            <origin xyz="0 0 0" rpy="0 0 0"/>
            <geometry>
                <box size="0.002 0.1111111111111111 0.1111111111111111"/>
            </geometry>
        </collision>
    </link>
    <!-- Joint: body, body_face_front_3 -->
    <joint name="body_body_face_front_3_joint" type="fixed">
        <parent link="body"/>
        <child link="body_face_front_3"/>
        <origin xyz="0.501 -0.1111111111111111 -0.2222222222222222"
                rpy="0 0 0"/>
        <axis xyz="0 0 1"/>
        
    </joint>


    <!-- body_face_front_4 -->
    <link name="body_face_front_4">
        <inertial>
            <origin xyz="0 0 0" rpy="0 0 0"/>
            <mass value="0"/>
            <inertia ixx=".1" ixy=".1" ixz=".1" iyy=".1" iyz=".1" izz=".1"/>
        </inertial>
        <visual>
            <origin xyz="0 0 0" rpy="0 0 0"/>
            <geometry>
                <box size="0.002 0.1111111111111111 0.1111111111111111"/>
            </geometry>
        </visual>
        <collision>
            <origin xyz="0 0 0" rpy="0 0 0"/>
            <geometry>
                <box size="0.002 0.1111111111111111 0.1111111111111111"/>
            </geometry>
        </collision>
    </link>
    <!-- Joint: body, body_face_front_4 -->
    <joint name="body_body_face_front_4_joint" type="fixed">
        <parent link="body"/>
        <child link="body_face_front_4"/>
        <origin xyz="0.501 0.0 -0.2222222222222222"
                rpy="0 0 0"/>
        <axis xyz="0 0 1"/>
        
    </joint>


    <!-- body_face_front_5 -->
    <link name="body_face_front_5">
        <inertial>
            <origin xyz="0 0 0" rpy="0 0 0"/>
            <mass value="0"/>
            <inertia ixx=".1" ixy=".1" ixz=".1" iyy=".1" iyz=".1" izz=".1"/>
        </inertial>
        <visual>
            <origin xyz="0 0 0" rpy="0 0 0"/>
            <geometry>
                <box size="0.002 0.1111111111111111 0.1111111111111111"/>
            </geometry>
        </visual>
        <collision>
            <origin xyz="0 0 0" rpy="0 0 0"/>
            <geometry>
                <box size="0.002 0.1111111111111111 0.1111111111111111"/>
            </geometry>
        </collision>
    </link>
    <!-- Joint: body, body_face_front_5 -->
    <joint name="body_body_face_front_5_joint" type="fixed">
        <parent link="body"/>
        <child link="body_face_front_5"/>
        <origin xyz="0.501 0.11111111111111116 0.11111111111111116"
                rpy="0 0 0"/>
        <axis xyz="0 0 1"/>
        
    </joint>


    <!-- body_face_front_6 -->
    <link name="body_face_front_6">
        <inertial>
            <origin xyz="0 0 0" rpy="0 0 0"/>
            <mass value="0"/>
            <inertia ixx=".1" ixy=".1" ixz=".1" iyy=".1" iyz=".1" izz=".1"/>
        </inertial>
        <visual>
            <origin xyz="0 0 0" rpy="0 0 0"/>
            <geometry>
                <box size="0.002 0.1111111111111111 0.1111111111111111"/>
            </geometry>
        </visual>
        <collision>
            <origin xyz="0 0 0" rpy="0 0 0"/>
            <geometry>
                <box size="0.002 0.1111111111111111 0.1111111111111111"/>
            </geometry>
        </collision>
    </link>
    <!-- Joint: body, body_face_front_6 -->
    <joint name="body_body_face_front_6_joint" type="fixed">
        <parent link="body"/>
        <child link="body_face_front_6"/>
        <origin xyz="0.501 0.11111111111111116 -0.2222222222222222"
                rpy="0 0 0"/>
        <axis xyz="0 0 1"/>
        
    </joint>


    <!-- body_face_front_7 -->
    <link name="body_face_front_7">
        <inertial>
            <origin xyz="0 0 0" rpy="0 0 0"/>
            <mass value="0"/>
            <inertia ixx=".1" ixy=".1" ixz=".1" iyy=".1" iyz=".1" izz=".1"/>
        </inertial>
        <visual>
            <origin xyz="0 0 0" rpy="0 0 0"/>
            <geometry>
                <box size="0.002 0.1111111111111111 0.1111111111111111"/>
            </geometry>
        </visual>
        <collision>
            <origin xyz="0 0 0" rpy="0 0 0"/>
            <geometry>
                <box size="0.002 0.1111111111111111 0.1111111111111111"/>
            </geometry>
        </collision>
    </link>
    <!-- Joint: body, body_face_front_7 -->
    <joint name="body_body_face_front_7_joint" type="fixed">
        <parent link="body"/>
        <child link="body_face_front_7"/>
        <origin xyz="0.501 0.2222222222222222 0.2222222222222222"
                rpy="0 0 0"/>
        <axis xyz="0 0 1"/>
        
    </joint>


    <!-- body_face_front_8 -->
    <link name="body_face_front_8">
        <inertial>
            <origin xyz="0 0 0" rpy="0 0 0"/>
            <mass value="0"/>
            <inertia ixx=".1" ixy=".1" ixz=".1" iyy=".1" iyz=".1" izz=".1"/>
        </inertial>
        <visual>
            <origin xyz="0 0 0" rpy="0 0 0"/>
            <geometry>
                <box size="0.002 0.1111111111111111 0.1111111111111111"/>
            </geometry>
        </visual>
        <collision>
            <origin xyz="0 0 0" rpy="0 0 0"/>
            <geometry>
                <box size="0.002 0.1111111111111111 0.1111111111111111"/>
            </geometry>
        </collision>
    </link>
    <!-- Joint: body, body_face_front_8 -->
    <joint name="body_body_face_front_8_joint" type="fixed">
        <parent link="body"/>
        <child link="body_face_front_8"/>
        <origin xyz="0.501 0.33333333333333337 0.11111111111111116"
                rpy="0 0 0"/>
        <axis xyz="0 0 1"/>
        
    </joint>


    <!-- body_face_top_0 -->
    <link name="body_face_top_0">
        <inertial>
            <origin xyz="0 0 0" rpy="0 0 0"/>
            <mass value="0"/>
            <inertia ixx=".1" ixy=".1" ixz=".1" iyy=".1" iyz=".1" izz=".1"/>
        </inertial>
        <visual>
            <origin xyz="0 0 0" rpy="0 0 0"/>
            <geometry>
                <box size="0.1111111111111111 0.1111111111111111 0.002"/>
            </geometry>
        </visual>
        <collision>
            <origin xyz="0 0 0" rpy="0 0 0"/>
            <geometry>
                <box size="0.1111111111111111 0.1111111111111111 0.002"/>
            </geometry>
        </collision>
    </link>
    <!-- Joint: body, body_face_top_0 -->
    <joint name="body_body_face_top_0_joint" type="fixed">
        <parent link="body"/>
        <child link="body_face_top_0"/>
        <origin xyz="0.11111111111111116 -0.2222222222222222 0.501"
                rpy="0 0 0"/>
        <axis xyz="0 0 1"/>
        
    </joint>


    <!-- body_face_top_1 -->
    <link name="body_face_top_1">
        <inertial>
            <origin xyz="0 0 0" rpy="0 0 0"/>
            <mass value="0"/>
            <inertia ixx=".1" ixy=".1" ixz=".1" iyy=".1" iyz=".1" izz=".1"/>
        </inertial>
        <visual>
            <origin xyz="0 0 0" rpy="0 0 0"/>
            <geometry>
                <box size="0.1111111111111111 0.1111111111111111 0.002"/>
            </geometry>
        </visual>
        <collision>
            <origin xyz="0 0 0" rpy="0 0 0"/>
            <geometry>
                <box size="0.1111111111111111 0.1111111111111111 0.002"/>
            </geometry>
        </collision>
    </link>
    <!-- Joint: body, body_face_top_1 -->
    <joint name="body_body_face_top_1_joint" type="fixed">
        <parent link="body"/>
        <child link="body_face_top_1"/>
        <origin xyz="0.11111111111111116 -0.1111111111111111 0.501"
                rpy="0 0 0"/>
        <axis xyz="0 0 1"/>
        
    </joint>


    <!-- body_face_top_2 -->
    <link name="body_face_top_2">
        <inertial>
            <origin xyz="0 0 0" rpy="0 0 0"/>
            <mass value="0"/>
            <inertia ixx=".1" ixy=".1" ixz=".1" iyy=".1" iyz=".1" izz=".1"/>
        </inertial>
        <visual>
            <origin xyz="0 0 0" rpy="0 0 0"/>
            <geometry>
                <box size="0.1111111111111111 0.1111111111111111 0.002"/>
            </geometry>
        </visual>
        <collision>
            <origin xyz="0 0 0" rpy="0 0 0"/>
            <geometry>
                <box size="0.1111111111111111 0.1111111111111111 0.002"/>
            </geometry>
        </collision>
    </link>
    <!-- Joint: body, body_face_top_2 -->
    <joint name="body_body_face_top_2_joint" type="fixed">
        <parent link="body"/>
        <child link="body_face_top_2"/>
        <origin xyz="0.2222222222222222 -0.1111111111111111 0.501"
                rpy="0 0 0"/>
        <axis xyz="0 0 1"/>
        
    </joint>


    <!-- body_face_top_3 -->
    <link name="body_face_top_3">
        <inertial>
            <origin xyz="0 0 0" rpy="0 0 0"/>
            <mass value="0"/>
            <inertia ixx=".1" ixy=".1" ixz=".1" iyy=".1" iyz=".1" izz=".1"/>
        </inertial>
        <visual>
            <origin xyz="0 0 0" rpy="0 0 0"/>
            <geometry>
                <box size="0.1111111111111111 0.1111111111111111 0.002"/>
            </geometry>
        </visual>
        <collision>
            <origin xyz="0 0 0" rpy="0 0 0"/>
            <geometry>
                <box size="0.1111111111111111 0.1111111111111111 0.002"/>
            </geometry>
        </collision>
    </link>
    <!-- Joint: body, body_face_top_3 -->
    <joint name="body_body_face_top_3_joint" type="fixed">
        <parent link="body"/>
        <child link="body_face_top_3"/>
        <origin xyz="-0.33333333333333337 0.0 0.501"
                rpy="0 0 0"/>
        <axis xyz="0 0 1"/>
        
    </joint>


    <!-- body_face_top_4 -->
    <link name="body_face_top_4">
        <inertial>
            <origin xyz="0 0 0" rpy="0 0 0"/>
            <mass value="0"/>
            <inertia ixx=".1" ixy=".1" ixz=".1" iyy=".1" iyz=".1" izz=".1"/>
        </inertial>
        <visual>
            <origin xyz="0 0 0" rpy="0 0 0"/>
            <geometry>
                <box size="0.1111111111111111 0.1111111111111111 0.002"/>
            </geometry>
        </visual>
        <collision>
            <origin xyz="0 0 0" rpy="0 0 0"/>
            <geometry>
                <box size="0.1111111111111111 0.1111111111111111 0.002"/>
            </geometry>
        </collision>
    </link>
    <!-- Joint: body, body_face_top_4 -->
    <joint name="body_body_face_top_4_joint" type="fixed">
        <parent link="body"/>
        <child link="body_face_top_4"/>
        <origin xyz="-0.2222222222222222 0.0 0.501"
                rpy="0 0 0"/>
        <axis xyz="0 0 1"/>
        
    </joint>


    <!-- body_face_top_5 -->
    <link name="body_face_top_5">
        <inertial>
            <origin xyz="0 0 0" rpy="0 0 0"/>
            <mass value="0"/>
            <inertia ixx=".1" ixy=".1" ixz=".1" iyy=".1" iyz=".1" izz=".1"/>
        </inertial>
        <visual>
            <origin xyz="0 0 0" rpy="0 0 0"/>
            <geometry>
                <box size="0.1111111111111111 0.1111111111111111 0.002"/>
            </geometry>
        </visual>
        <collision>
            <origin xyz="0 0 0" rpy="0 0 0"/>
            <geometry>
                <box size="0.1111111111111111 0.1111111111111111 0.002"/>
            </geometry>
        </collision>
    </link>
    <!-- Joint: body, body_face_top_5 -->
    <joint name="body_body_face_top_5_joint" type="fixed">
        <parent link="body"/>
        <child link="body_face_top_5"/>
        <origin xyz="-0.1111111111111111 0.0 0.501"
                rpy="0 0 0"/>
        <axis xyz="0 0 1"/>
        
    </joint>


    <!-- body_face_top_6 -->
    <link name="body_face_top_6">
        <inertial>
            <origin xyz="0 0 0" rpy="0 0 0"/>
            <mass value="0"/>
            <inertia ixx=".1" ixy=".1" ixz=".1" iyy=".1" iyz=".1" izz=".1"/>
        </inertial>
        <visual>
            <origin xyz="0 0 0" rpy="0 0 0"/>
            <geometry>
                <box size="0.1111111111111111 0.1111111111111111 0.002"/>
            </geometry>
        </visual>
        <collision>
            <origin xyz="0 0 0" rpy="0 0 0"/>
            <geometry>
                <box size="0.1111111111111111 0.1111111111111111 0.002"/>
            </geometry>
        </collision>
    </link>
    <!-- Joint: body, body_face_top_6 -->
    <joint name="body_body_face_top_6_joint" type="fixed">
        <parent link="body"/>
        <child link="body_face_top_6"/>
        <origin xyz="0.0 0.0 0.501"
                rpy="0 0 0"/>
        <axis xyz="0 0 1"/>
        
    </joint>


    <!-- body_face_top_7 -->
    <link name="body_face_top_7">
        <inertial>
            <origin xyz="0 0 0" rpy="0 0 0"/>
            <mass value="0"/>
            <inertia ixx=".1" ixy=".1" ixz=".1" iyy=".1" iyz=".1" izz=".1"/>
        </inertial>
        <visual>
            <origin xyz="0 0 0" rpy="0 0 0"/>
            <geometry>
                <box size="0.1111111111111111 0.1111111111111111 0.002"/>
            </geometry>
        </visual>
        <collision>
            <origin xyz="0 0 0" rpy="0 0 0"/>
            <geometry>
                <box size="0.1111111111111111 0.1111111111111111 0.002"/>
            </geometry>
        </collision>
    </link>
    <!-- Joint: body, body_face_top_7 -->
    <joint name="body_body_face_top_7_joint" type="fixed">
        <parent link="body"/>
        <child link="body_face_top_7"/>
        <origin xyz="0.11111111111111116 0.0 0.501"
                rpy="0 0 0"/>
        <axis xyz="0 0 1"/>
        
    </joint>


    <!-- body_face_top_8 -->
    <link name="body_face_top_8">
        <inertial>
            <origin xyz="0 0 0" rpy="0 0 0"/>
            <mass value="0"/>
            <inertia ixx=".1" ixy=".1" ixz=".1" iyy=".1" iyz=".1" izz=".1"/>
        </inertial>
        <visual>
            <origin xyz="0 0 0" rpy="0 0 0"/>
            <geometry>
                <box size="0.1111111111111111 0.1111111111111111 0.002"/>
            </geometry>
        </visual>
        <collision>
            <origin xyz="0 0 0" rpy="0 0 0"/>
            <geometry>
                <box size="0.1111111111111111 0.1111111111111111 0.002"/>
            </geometry>
        </collision>
    </link>
    <!-- Joint: body, body_face_top_8 -->
    <joint name="body_body_face_top_8_joint" type="fixed">
        <parent link="body"/>
        <child link="body_face_top_8"/>
        <origin xyz="0.2222222222222222 0.0 0.501"
                rpy="0 0 0"/>
        <axis xyz="0 0 1"/>
        
    </joint>


    <!-- body_face_top_9 -->
    <link name="body_face_top_9">
        <inertial>
            <origin xyz="0 0 0" rpy="0 0 0"/>
            <mass value="0"/>
            <inertia ixx=".1" ixy=".1" ixz=".1" iyy=".1" iyz=".1" izz=".1"/>
        </inertial>
        <visual>
            <origin xyz="0 0 0" rpy="0 0 0"/>
            <geometry>
                <box size="0.1111111111111111 0.1111111111111111 0.002"/>
            </geometry>
        </visual>
        <collision>
            <origin xyz="0 0 0" rpy="0 0 0"/>
            <geometry>
                <box size="0.1111111111111111 0.1111111111111111 0.002"/>
            </geometry>
        </collision>
    </link>
    <!-- Joint: body, body_face_top_9 -->
    <joint name="body_body_face_top_9_joint" type="fixed">
        <parent link="body"/>
        <child link="body_face_top_9"/>
        <origin xyz="0.33333333333333337 0.0 0.501"
                rpy="0 0 0"/>
        <axis xyz="0 0 1"/>
        
    </joint>


    <!-- body_face_top_10 -->
    <link name="body_face_top_10">
        <inertial>
            <origin xyz="0 0 0" rpy="0 0 0"/>
            <mass value="0"/>
            <inertia ixx=".1" ixy=".1" ixz=".1" iyy=".1" iyz=".1" izz=".1"/>
        </inertial>
        <visual>
            <origin xyz="0 0 0" rpy="0 0 0"/>
            <geometry>
                <box size="0.1111111111111111 0.1111111111111111 0.002"/>
            </geometry>
        </visual>
        <collision>
            <origin xyz="0 0 0" rpy="0 0 0"/>
            <geometry>
                <box size="0.1111111111111111 0.1111111111111111 0.002"/>
            </geometry>
        </collision>
    </link>
    <!-- Joint: body, body_face_top_10 -->
    <joint name="body_body_face_top_10_joint" type="fixed">
        <parent link="body"/>
        <child link="body_face_top_10"/>
        <origin xyz="0.11111111111111116 0.11111111111111116 0.501"
                rpy="0 0 0"/>
        <axis xyz="0 0 1"/>
        
    </joint>


    <!-- body_face_top_11 -->
    <link name="body_face_top_11">
        <inertial>
            <origin xyz="0 0 0" rpy="0 0 0"/>
            <mass value="0"/>
            <inertia ixx=".1" ixy=".1" ixz=".1" iyy=".1" iyz=".1" izz=".1"/>
        </inertial>
        <visual>
            <origin xyz="0 0 0" rpy="0 0 0"/>
            <geometry>
                <box size="0.1111111111111111 0.1111111111111111 0.002"/>
            </geometry>
        </visual>
        <collision>
            <origin xyz="0 0 0" rpy="0 0 0"/>
            <geometry>
                <box size="0.1111111111111111 0.1111111111111111 0.002"/>
            </geometry>
        </collision>
    </link>
    <!-- Joint: body, body_face_top_11 -->
    <joint name="body_body_face_top_11_joint" type="fixed">
        <parent link="body"/>
        <child link="body_face_top_11"/>
        <origin xyz="0.2222222222222222 0.11111111111111116 0.501"
                rpy="0 0 0"/>
        <axis xyz="0 0 1"/>
        
    </joint>


    <!-- body_face_top_12 -->
    <link name="body_face_top_12">
        <inertial>
            <origin xyz="0 0 0" rpy="0 0 0"/>
            <mass value="0"/>
            <inertia ixx=".1" ixy=".1" ixz=".1" iyy=".1" iyz=".1" izz=".1"/>
        </inertial>
        <visual>
            <origin xyz="0 0 0" rpy="0 0 0"/>
            <geometry>
                <box size="0.1111111111111111 0.1111111111111111 0.002"/>
            </geometry>
        </visual>
        <collision>
            <origin xyz="0 0 0" rpy="0 0 0"/>
            <geometry>
                <box size="0.1111111111111111 0.1111111111111111 0.002"/>
            </geometry>
        </collision>
    </link>
    <!-- Joint: body, body_face_top_12 -->
    <joint name="body_body_face_top_12_joint" type="fixed">
        <parent link="body"/>
        <child link="body_face_top_12"/>
        <origin xyz="0.11111111111111116 0.2222222222222222 0.501"
                rpy="0 0 0"/>
        <axis xyz="0 0 1"/>
        
    </joint>


</robot>
